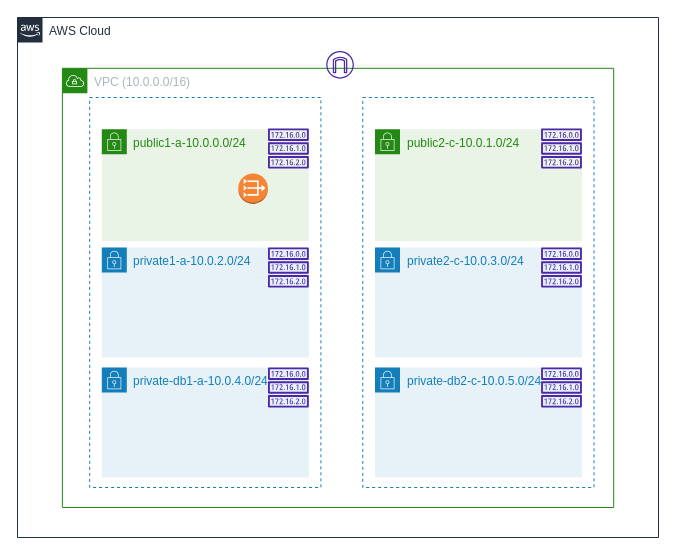
Some shapes in this 676 by 555 pixel diagram are drawn without their labels. Each missing label, with the box of its shape:
Availability Zone A: (362, 96, 594, 488)
Availability Zone C: (89, 96, 321, 488)
NAT: (237, 172, 268, 204)
